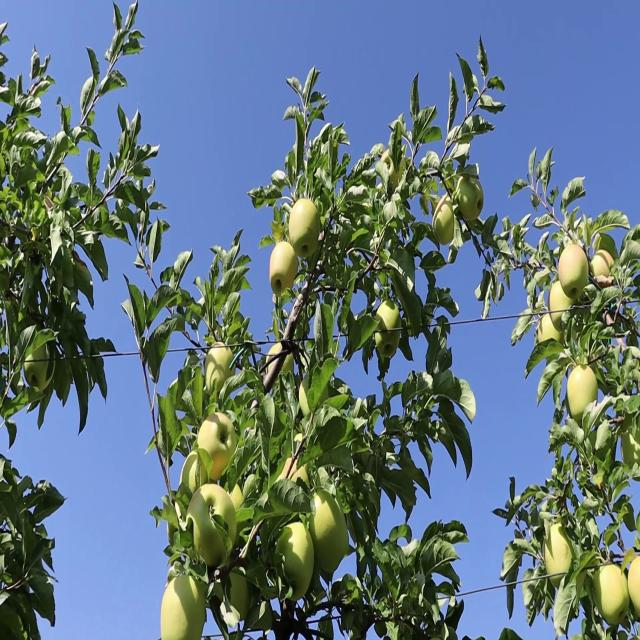apple: (185, 484, 238, 566), (308, 494, 351, 577), (275, 520, 315, 602), (159, 573, 205, 640), (196, 410, 237, 480), (592, 561, 628, 625), (289, 195, 321, 260), (541, 522, 574, 580), (269, 237, 298, 300), (567, 364, 600, 418), (558, 242, 588, 298), (204, 340, 234, 394), (374, 301, 401, 358), (454, 172, 484, 219), (24, 340, 49, 391), (224, 568, 249, 618), (549, 279, 573, 330), (535, 314, 562, 355), (621, 425, 640, 483), (266, 343, 294, 380), (432, 196, 453, 245), (379, 148, 405, 187), (592, 244, 616, 284), (278, 460, 308, 490), (628, 556, 640, 617), (180, 453, 198, 488)
